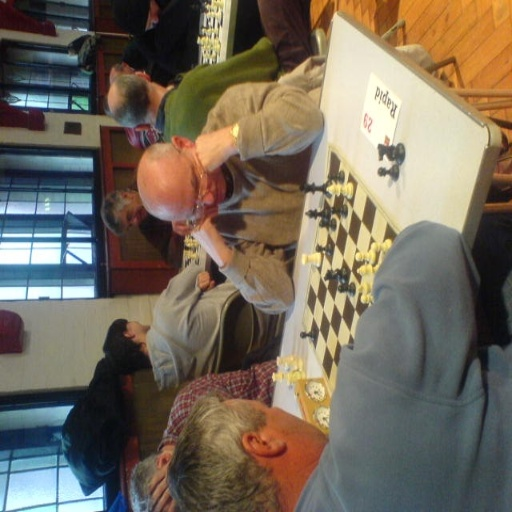hand: (193, 117, 238, 168), (188, 203, 225, 261), (147, 454, 177, 510), (195, 268, 216, 294), (172, 220, 196, 236)
